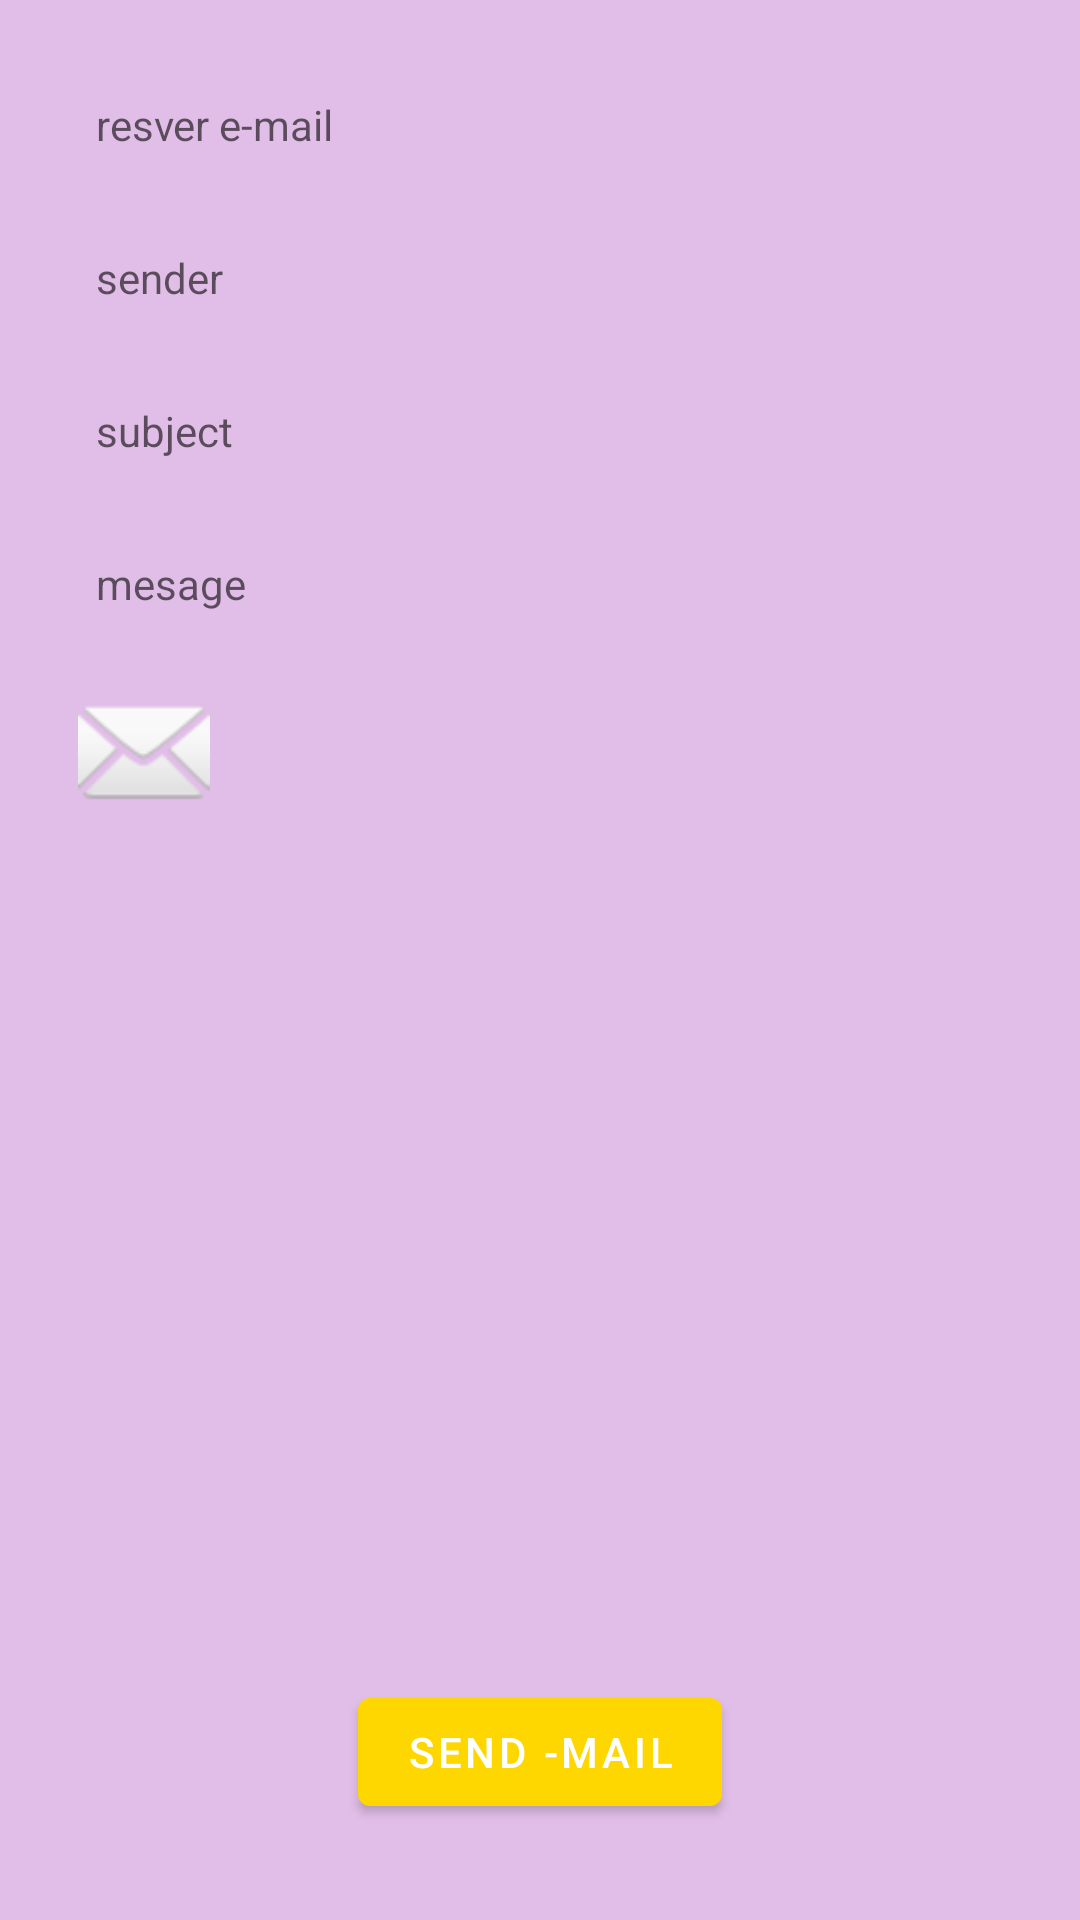

Where to tap for icons on this 1080 x 1920 app screen, as point (x, y):
email: point (144, 753)
